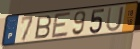5: (88, 7, 106, 34)
7: (20, 14, 34, 43)
9: (72, 10, 87, 36)
B: (34, 15, 53, 41)
E: (51, 11, 73, 39)
U: (105, 5, 125, 33)
